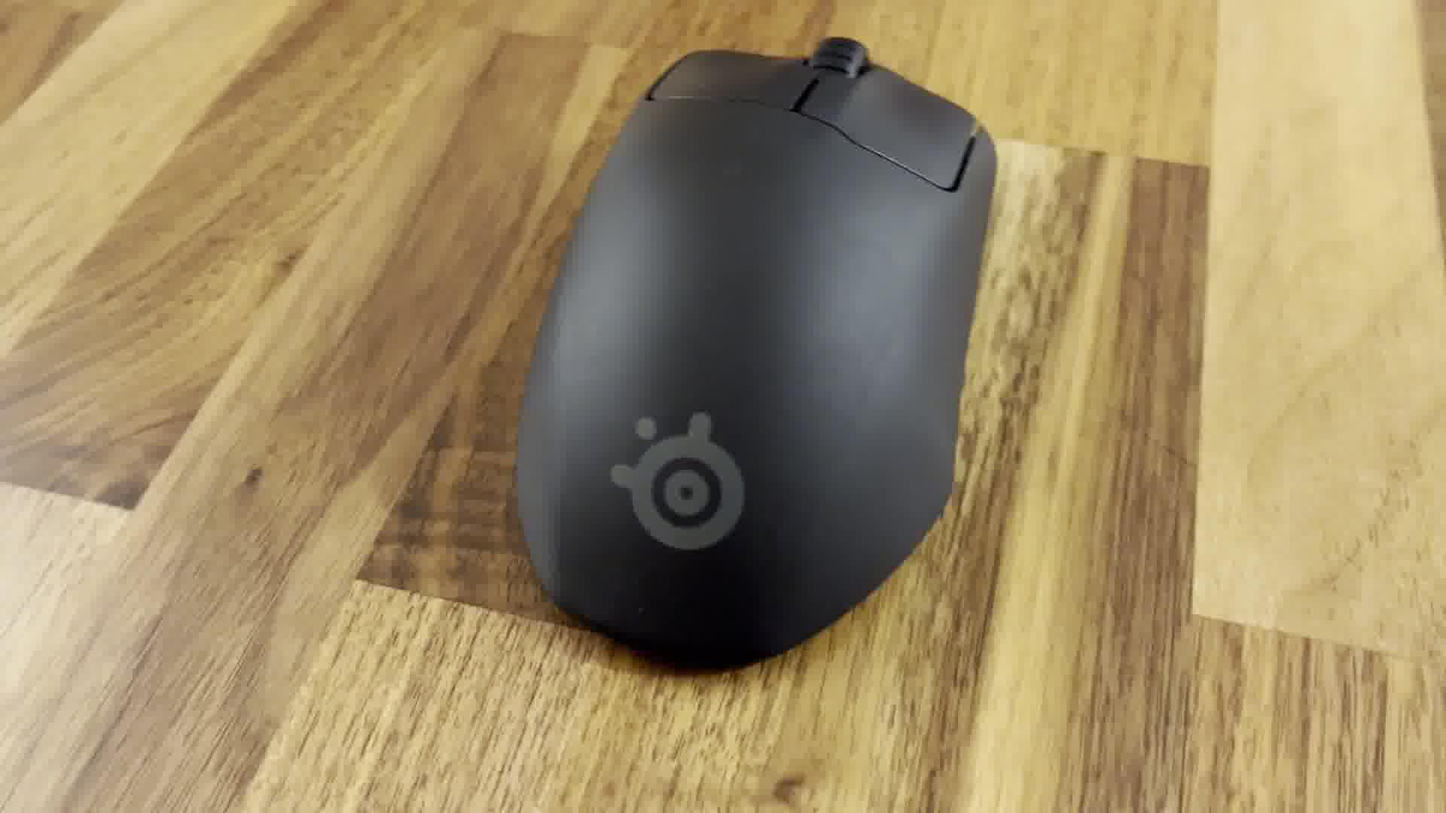mouse: (510, 29, 1001, 679)
